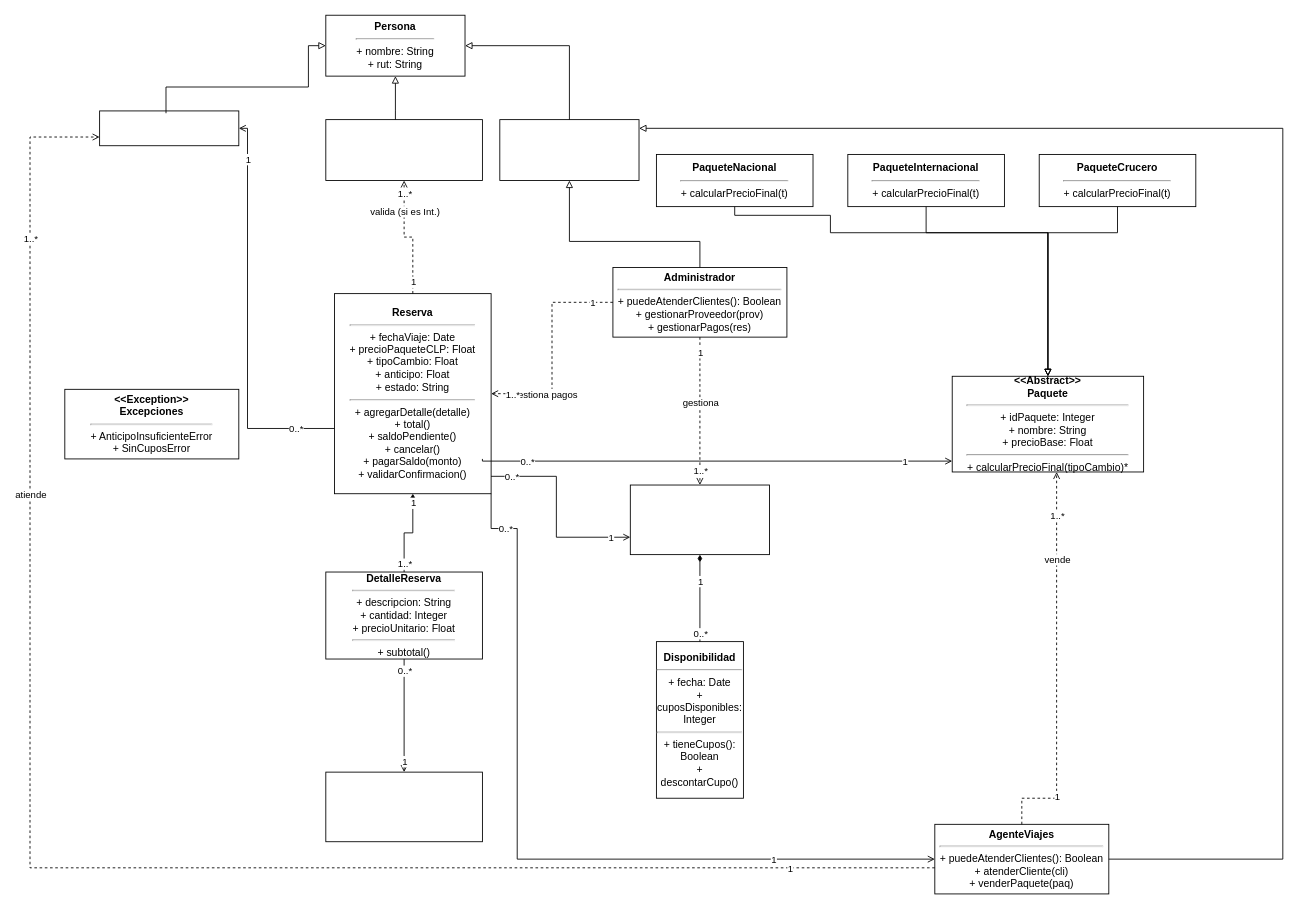
The diagram is 1305 pixels wide and 909 high, and some of its shapes have lost their labels. The centre of each missing label's shape, as x and y in pixels:
"<<Catalogo>> TipoItem + idTipo: Integer + nombreCategoria: String" belongs at point 403,806.
"Cliente" belongs at point 169,128.
"Proveedor + idProveedor: Integer + nombre: String" belongs at point 699,519.
"Trabajador" belongs at point 569,150.
"Viajero - numeroPasaporte: String + validarPasaporte(): Boolean" belongs at point 403,150.
